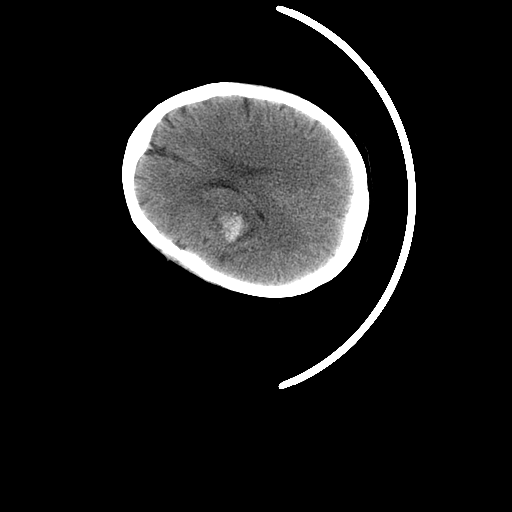a: (209, 199, 270, 254)
